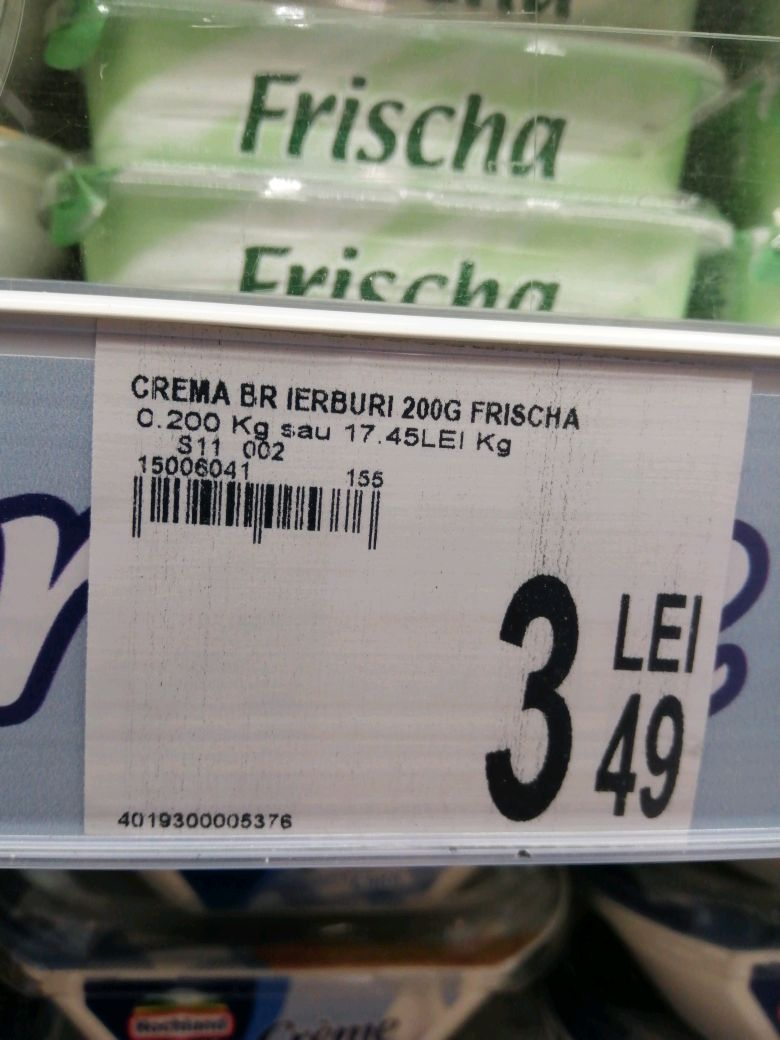price_bani: (584, 688, 692, 827)
price_lei: (459, 563, 594, 827)
price_tag: (77, 310, 763, 864)
product_id: (107, 806, 299, 835)
product_name: (117, 367, 591, 433)
